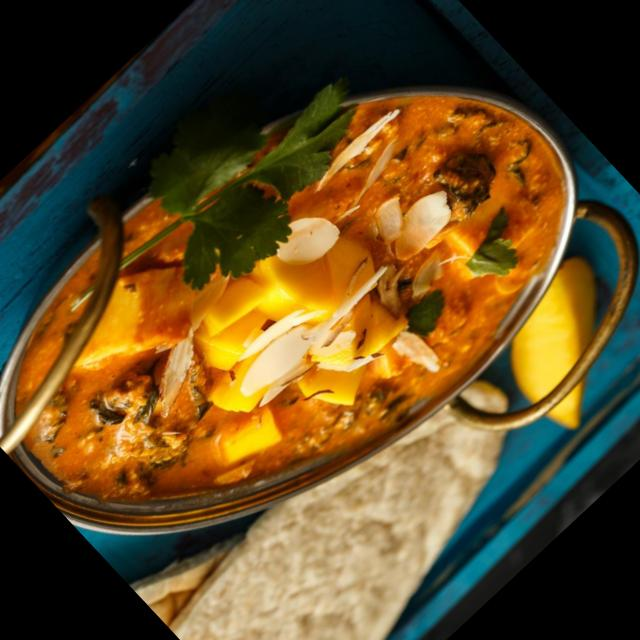roti: (185, 411, 513, 640)
